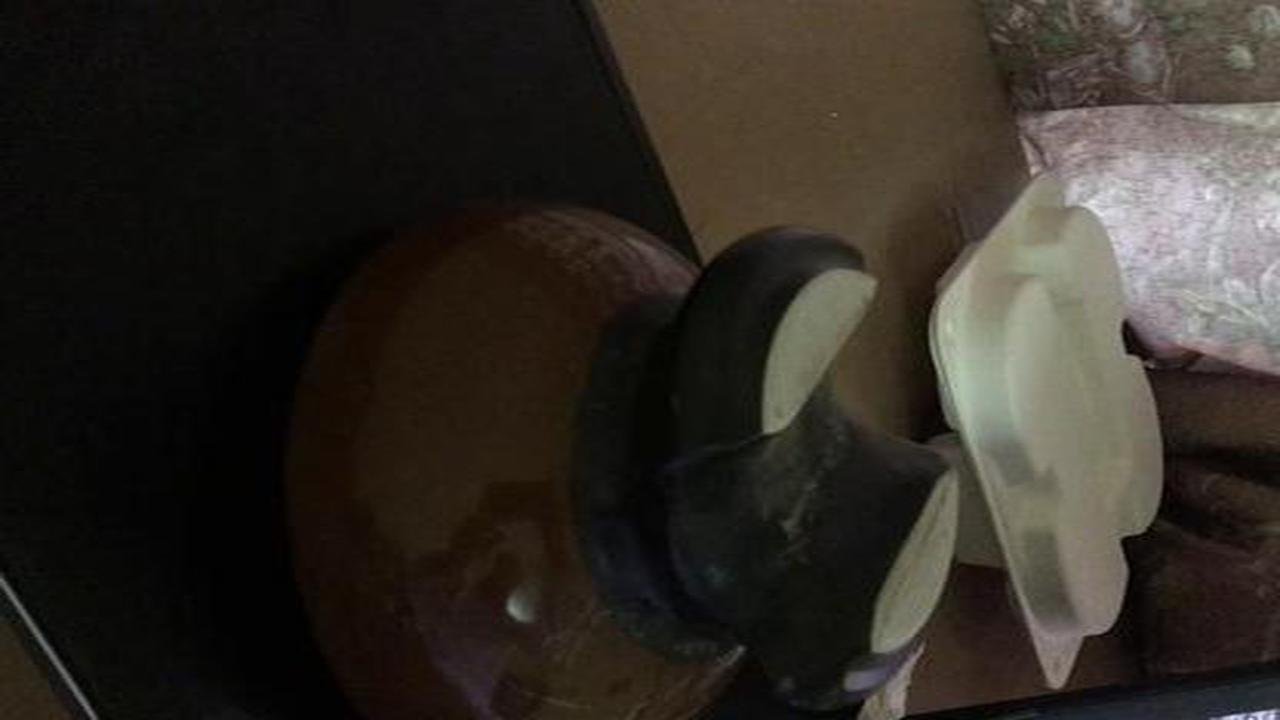insulator_pin: (250, 186, 982, 701)
